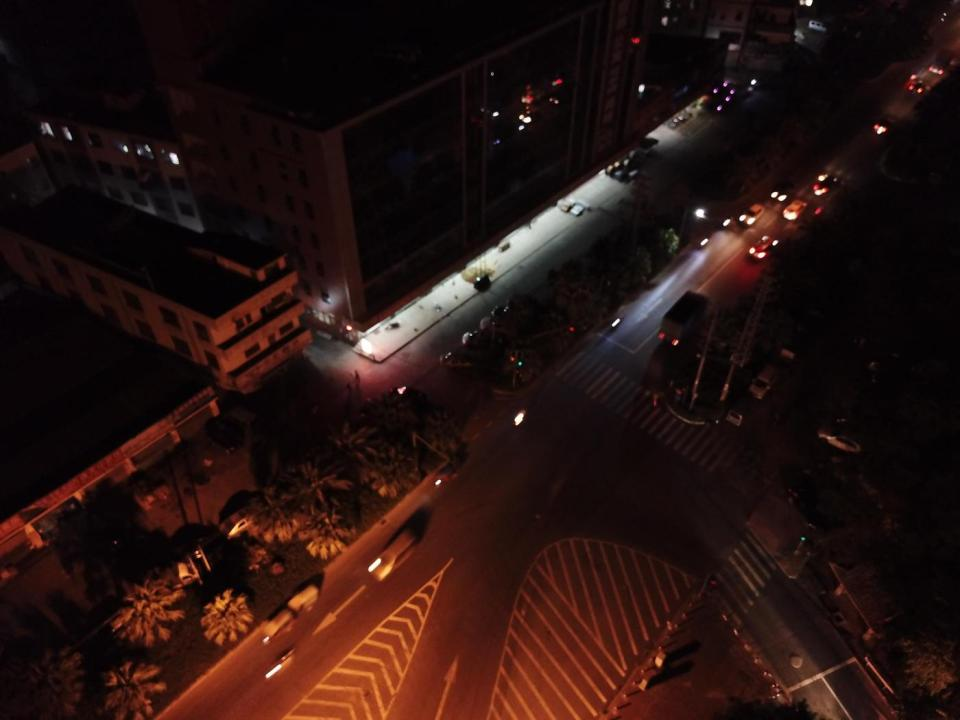car: (364, 528, 422, 583), (818, 421, 871, 456), (259, 609, 295, 648), (287, 584, 320, 614), (436, 348, 481, 370), (748, 232, 779, 262), (387, 385, 427, 408), (461, 330, 507, 350), (928, 46, 958, 76), (478, 314, 520, 335), (488, 304, 529, 323), (812, 171, 840, 197), (737, 202, 766, 227), (505, 292, 541, 312), (782, 197, 808, 223), (872, 112, 899, 136), (770, 177, 795, 202)
truck: (657, 289, 710, 348)
van: (747, 362, 781, 399), (726, 397, 756, 427), (807, 16, 833, 33)
